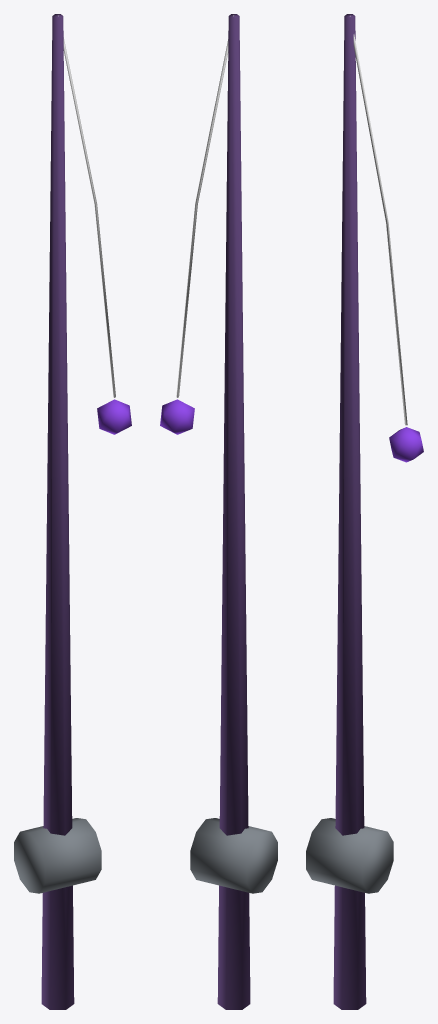
The model's file is fisher_of_souls.glb.
3 renders of one model, left to right at view 1: azimuth 30°, elevation 25°; view 2: azimuth 150°, elevation 25°; view 3: azimuth 330°, elevation 25°, orthographic.
Visible parts, largest first — view 1: fisher_of_souls_v0; view 2: fisher_of_souls_v0; view 3: fisher_of_souls_v0.
Boxes of the visible parts, x1,y1,x2,y2 form: fisher_of_souls_v0: (14,14,131,1009); fisher_of_souls_v0: (160,14,277,1009); fisher_of_souls_v0: (306,14,423,1009).
Bounding box in the file's own units: 0.1061 × 1 × 0.0571.
